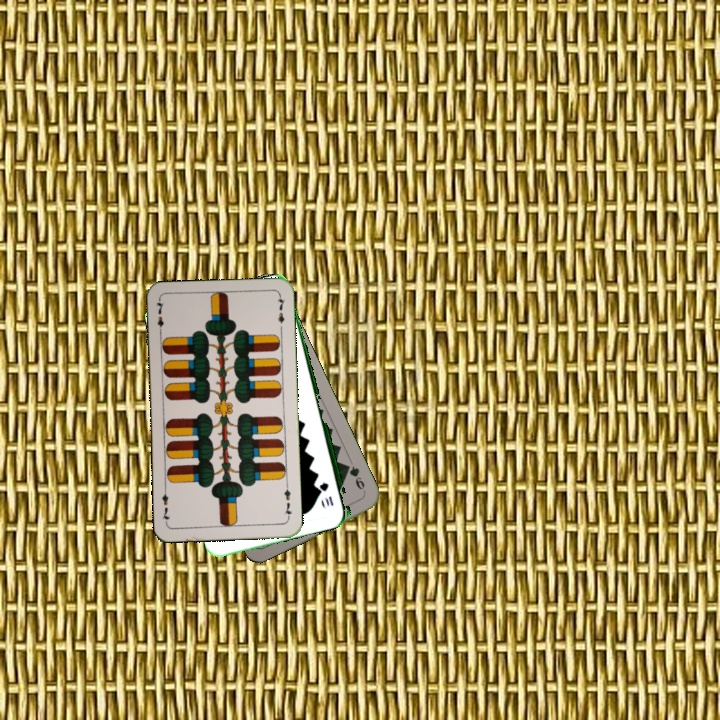E7: (280, 481, 294, 521), (152, 297, 166, 337)
G10: (317, 478, 336, 509)
G9: (341, 460, 368, 497)
